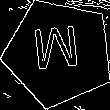M_S: (33, 25, 85, 81)
